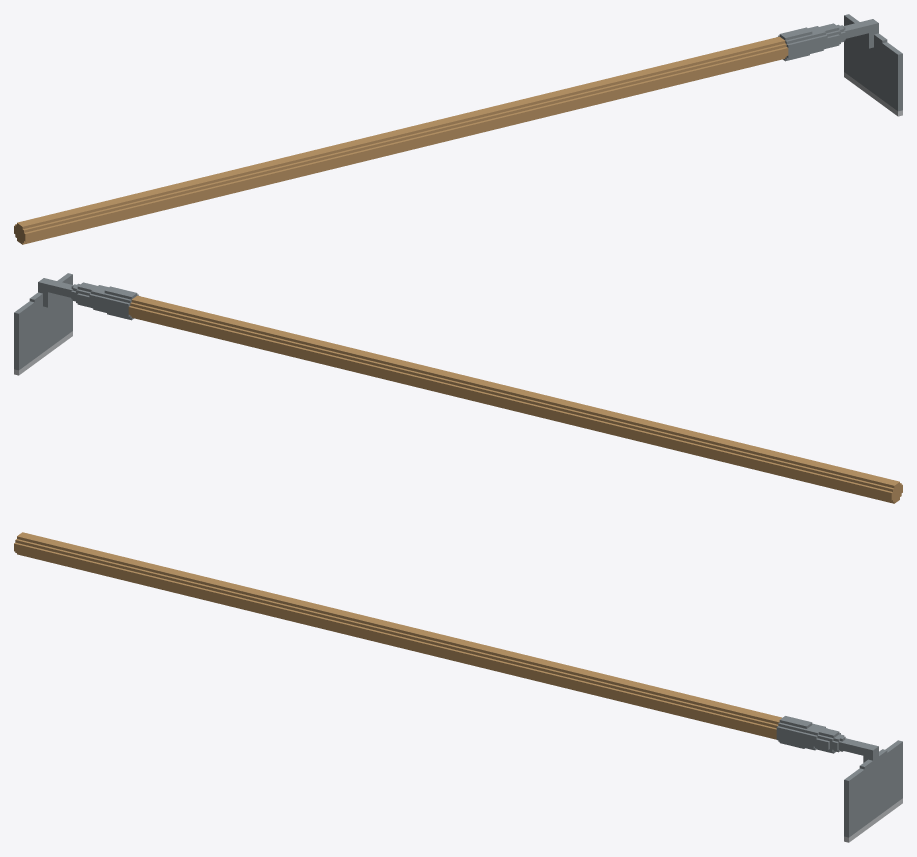
File: hoe.glb
3 views of the same model, one above another, from view 1: azimuth 30°, elevation 25°; view 2: azimuth 150°, elevation 25°; view 3: azimuth 330°, elevation 25° (orthographic).
Visible parts, largest first — view 1: hoe:compound; view 2: hoe:compound; view 3: hoe:compound.
Boxes of the visible parts, left/top/right/bottom form: hoe:compound: left=14, top=14, right=902, bottom=244; hoe:compound: left=14, top=273, right=902, bottom=503; hoe:compound: left=14, top=532, right=902, bottom=842.
Size of the model in its own units: 1.39 by 0.128 by 0.152.
